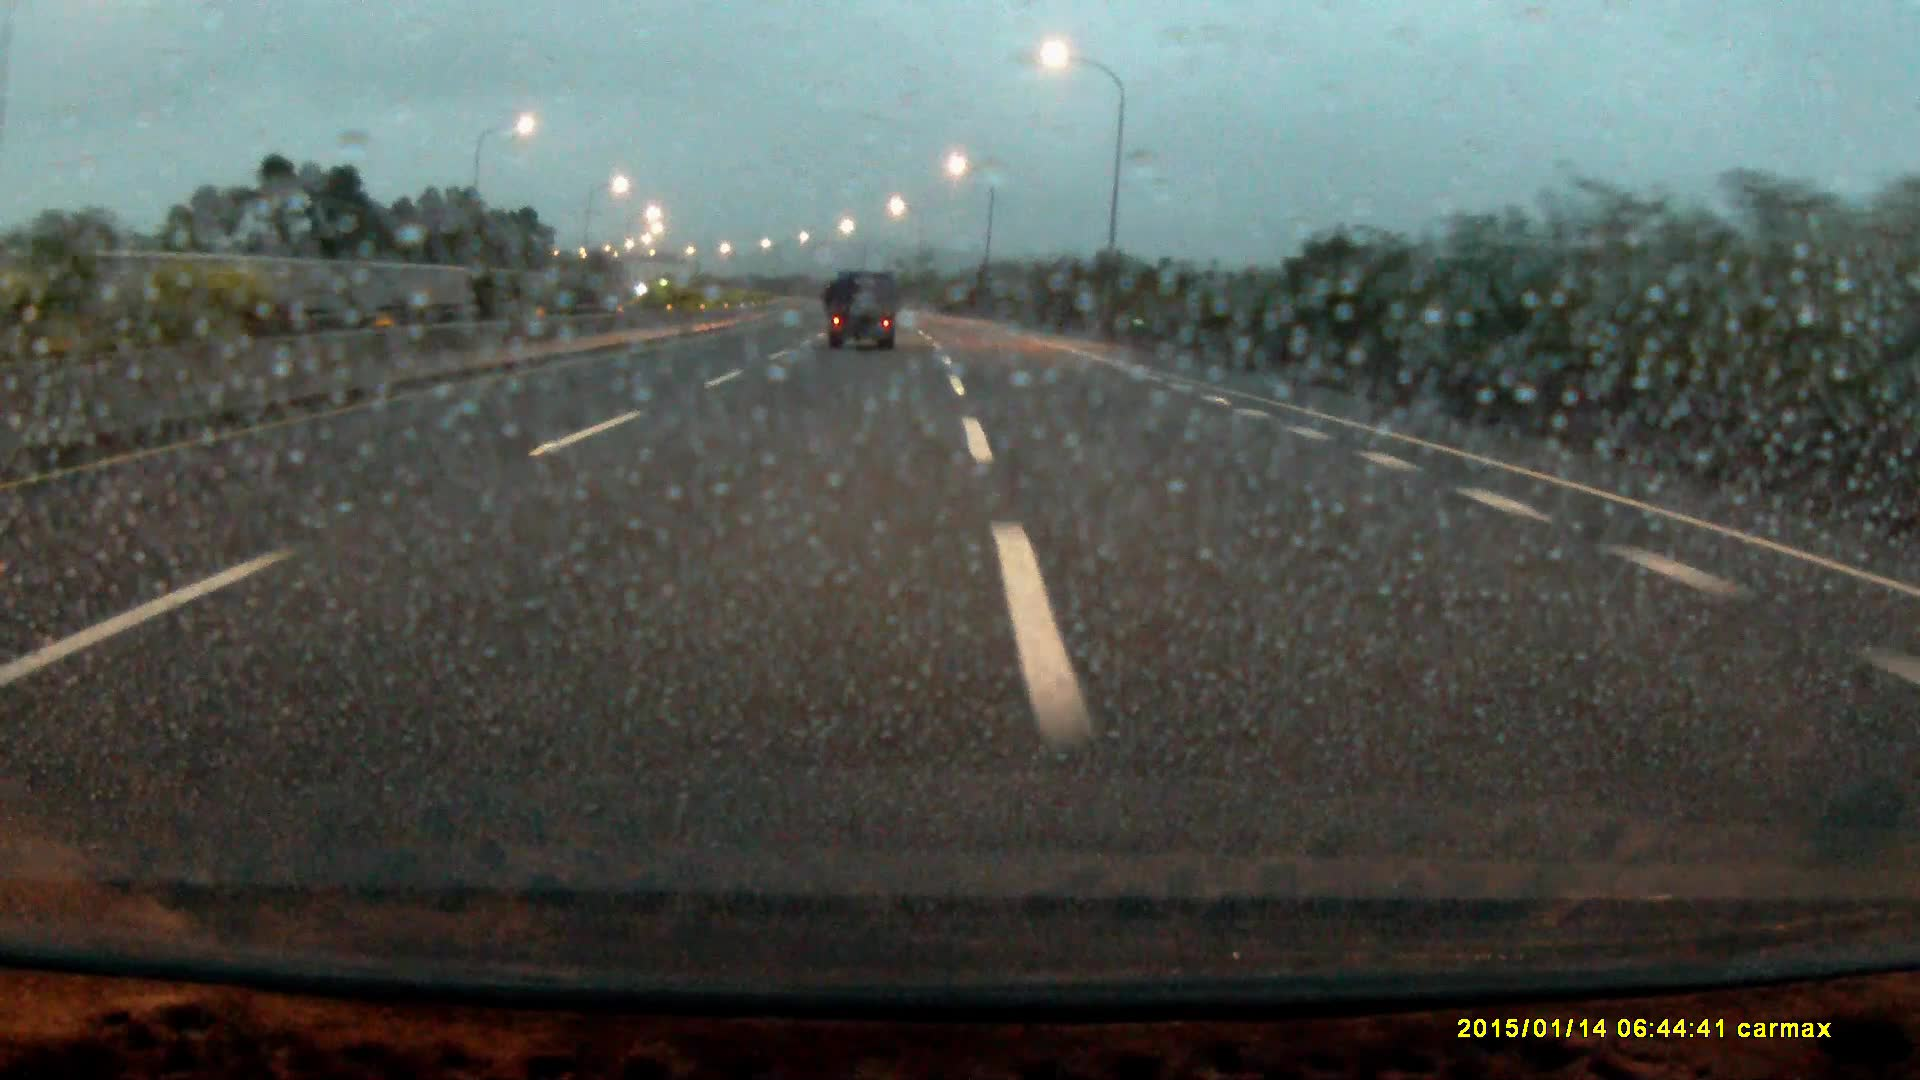vehicle: (825, 268, 899, 353)
